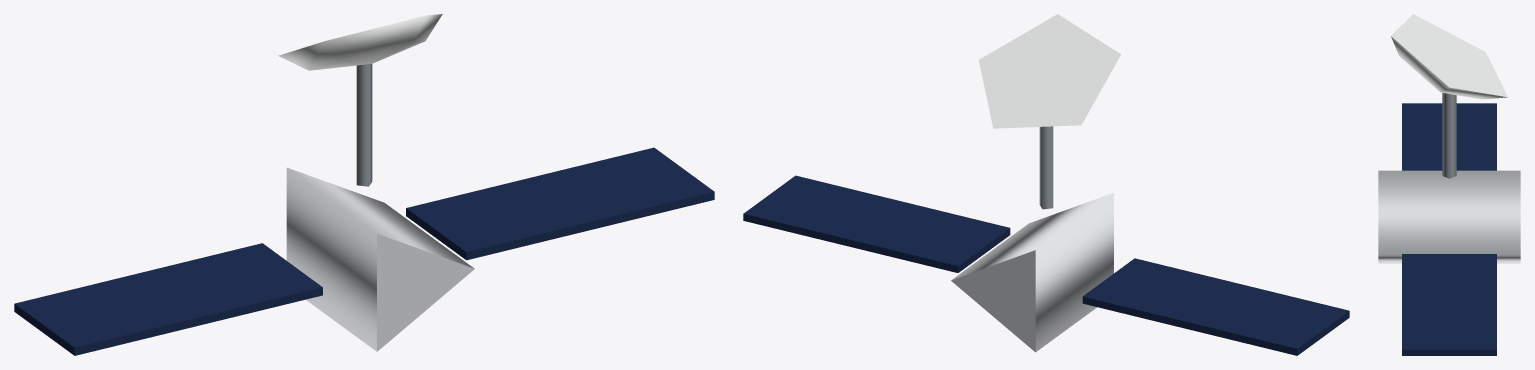
The model's file is space_ship_probe_mk1_lod2.glb.
3 renders of one model, left to right at view 1: azimuth 30°, elevation 25°; view 2: azimuth 150°, elevation 25°; view 3: azimuth 270°, elevation 25°, orthographic. The views are drawn at different scales.
Visible parts, largest first — view 1: body, solar_0, solar_1, antenna_0; view 2: body, solar_0, solar_1, antenna_0; view 3: body, solar_1, antenna_0, solar_0.
Part boxes in pixels (box(x1,y1,x2,y2)): body: box(286, 167, 474, 351); solar_0: box(14, 243, 322, 355); solar_1: box(406, 147, 714, 260); antenna_0: box(278, 14, 442, 186); body: box(951, 193, 1113, 352); solar_0: box(1082, 258, 1349, 355); solar_1: box(743, 175, 1010, 272); antenna_0: box(978, 14, 1120, 209); body: box(1378, 170, 1520, 263); solar_1: box(1402, 254, 1496, 355); antenna_0: box(1391, 14, 1507, 178); solar_0: box(1402, 103, 1496, 170).
Bounding box in the file's own units: 4.9 × 2.32 × 1.2.
